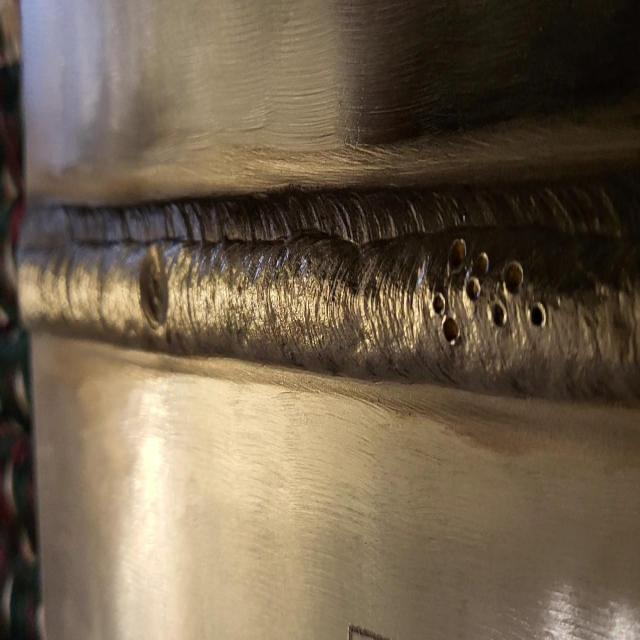Welding Line: (25, 218, 640, 372)
Workpiece: (32, 8, 640, 630)
porosity: (431, 234, 547, 348), (136, 253, 169, 327)
